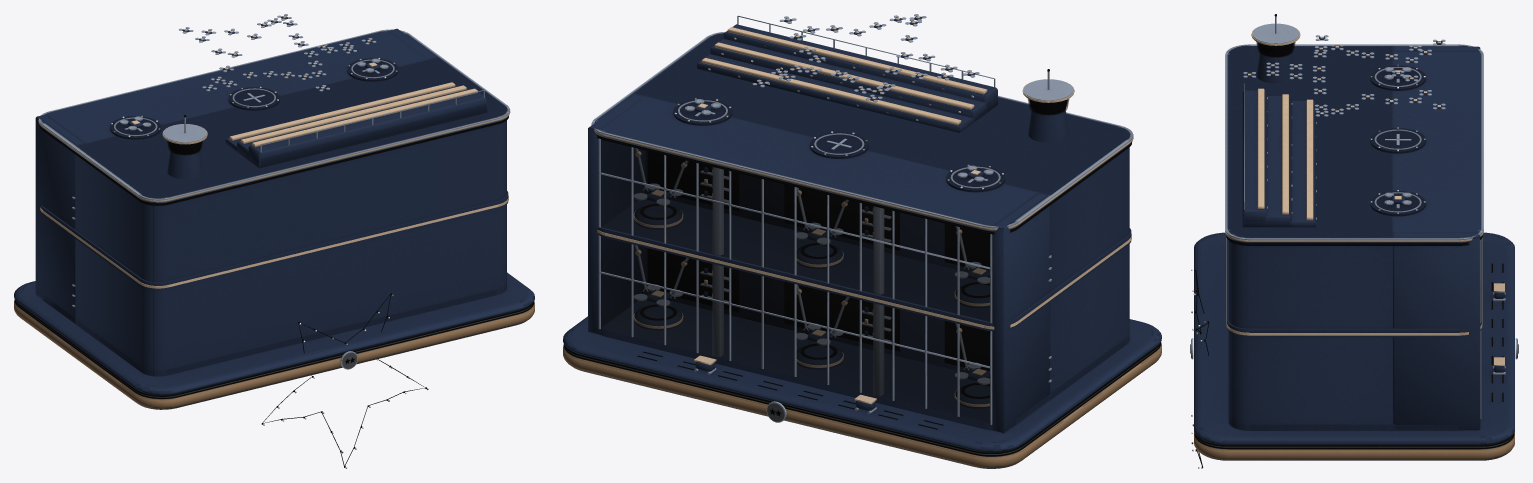
File: SM_Evo_DroneDepot.fbx
3 views of the same model, side by side, from view 1: azimuth 30°, elevation 25°; view 2: azimuth 150°, elevation 25°; view 3: azimuth 270°, elevation 25° (orthographic). The views are drawn at different scales.
Parts seen in each view (by area): view 1: SMN_Evo_DroneDepot, Emblem_Fx_DroneDepot, SpinDish_DroneDepotSwarm, Fx_DroneDepotSwarm; view 2: SMN_Evo_DroneDepot, Emblem_Fx_DroneDepot, SpinDish_DroneDepotSwarm; view 3: SMN_Evo_DroneDepot, Emblem_Fx_DroneDepot, SpinDish_DroneDepotSwarm.
Part boxes in pixels (x1=…): SMN_Evo_DroneDepot: x1=14, y1=28, x2=534, y2=409; Emblem_Fx_DroneDepot: x1=14, y1=58, x2=534, y2=398; SpinDish_DroneDepotSwarm: x1=179, y1=14, x2=376, y2=91; Fx_DroneDepotSwarm: x1=261, y1=293, x2=428, y2=468; SMN_Evo_DroneDepot: x1=563, y1=15, x2=1161, y2=468; Emblem_Fx_DroneDepot: x1=564, y1=37, x2=1160, y2=456; SpinDish_DroneDepotSwarm: x1=752, y1=14, x2=979, y2=102; SMN_Evo_DroneDepot: x1=1191, y1=16, x2=1517, y2=460; Emblem_Fx_DroneDepot: x1=1190, y1=14, x2=1518, y2=449; SpinDish_DroneDepotSwarm: x1=1243, y1=35, x2=1445, y2=116.
Bounding box in the file's own units: 2.84 × 2.53 × 1.88.
